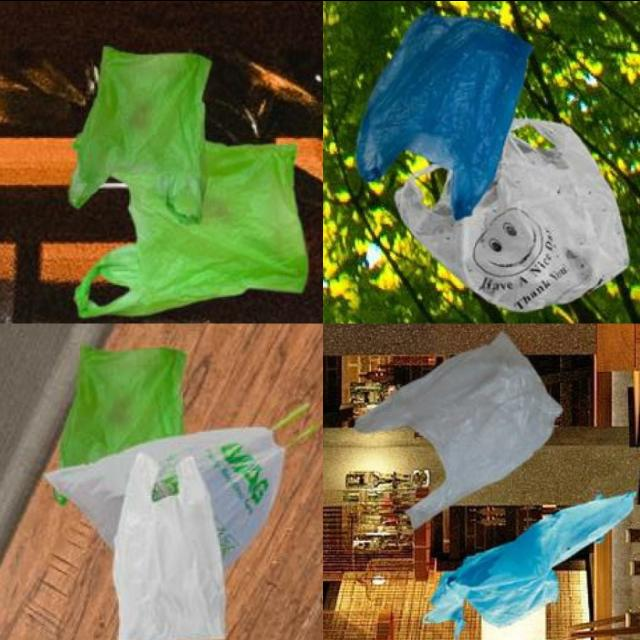plastik: (395, 118, 629, 310), (355, 331, 562, 527), (75, 142, 307, 316), (357, 9, 532, 219), (45, 427, 284, 565), (424, 492, 633, 632), (69, 46, 211, 223), (113, 453, 226, 640), (60, 345, 185, 465)
